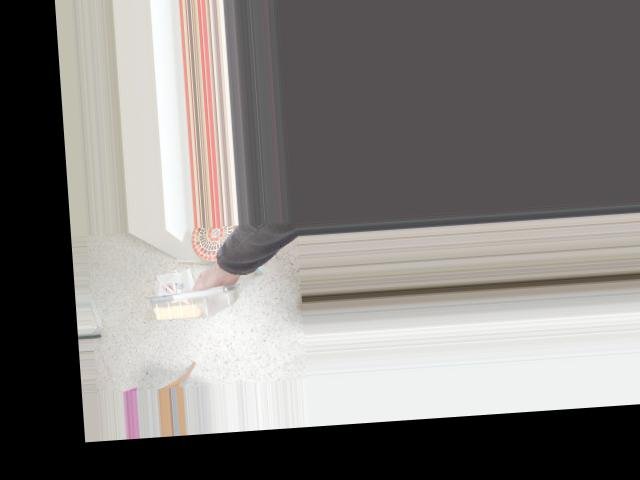cheese: (146, 267, 236, 332)
